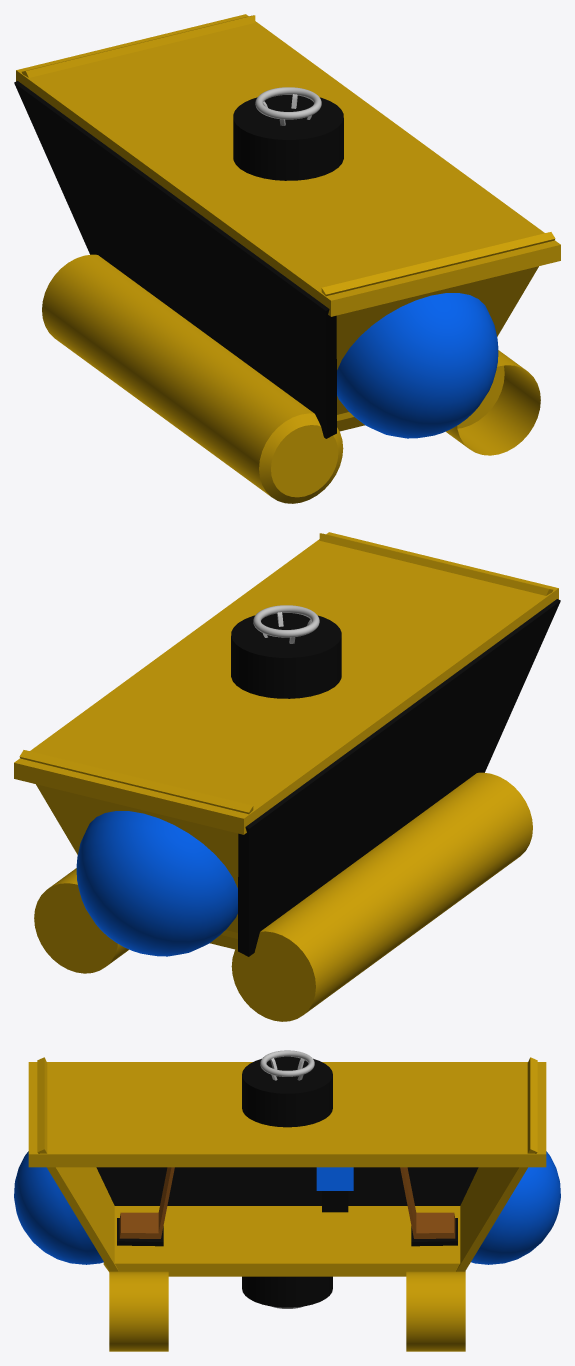
The model's file is submarine_02.fbx.
3 views of the same model, one above another, from view 1: azimuth 30°, elevation 25°; view 2: azimuth 150°, elevation 25°; view 3: azimuth 270°, elevation 25° (orthographic). The views are drawn at different scales.
Parts seen in each view (by area): view 1: Cube.001, Cube.003, Cube, Sphere, Cube.002, Cylinder, Cube.004, Cube.006, Torus.001; view 2: Cube.001, Cube.003, Cube, Sphere, Cube.002, Cylinder, Cube.004, Torus.001; view 3: Cube.001, Cube.005, Cube.003, Sphere, Cube.004, Cube.002, Cylinder, Cube.007, Cylinder.001, Cube.009, Cube.008, Torus.001 (+1 smaller).
Part boxes in pixels (x1=…): Cube.001: x1=16, y1=14, x2=560, y2=316; Cube.003: x1=14, y1=81, x2=336, y2=438; Cube: x1=42, y1=254, x2=343, y2=503; Sphere: x1=337, y1=293, x2=498, y2=438; Cube.002: x1=21, y1=15, x2=555, y2=431; Cylinder: x1=233, y1=95, x2=343, y2=180; Cube.004: x1=446, y1=350, x2=540, y2=455; Cube.006: x1=271, y1=425, x2=338, y2=497; Torus.001: x1=255, y1=87, x2=321, y2=119; Cube.001: x1=14, y1=532, x2=558, y2=834; Cube.003: x1=238, y1=599, x2=560, y2=956; Cube: x1=231, y1=772, x2=532, y2=1021; Sphere: x1=76, y1=811, x2=237, y2=956; Cube.002: x1=19, y1=533, x2=553, y2=949; Cylinder: x1=231, y1=613, x2=341, y2=698; Cube.004: x1=34, y1=868, x2=128, y2=973; Torus.001: x1=253, y1=605, x2=319, y2=637; Cube.001: x1=28, y1=1062, x2=546, y2=1167; Cube.005: x1=114, y1=1206, x2=460, y2=1276; Cube.003: x1=96, y1=1167, x2=478, y2=1205; Sphere: x1=14, y1=1151, x2=560, y2=1264; Cube.004: x1=109, y1=1271, x2=465, y2=1351; Cube.002: x1=37, y1=1057, x2=537, y2=1271; Cylinder: x1=242, y1=1056, x2=332, y2=1127; Cube.007: x1=119, y1=1167, x2=455, y2=1238; Cylinder.001: x1=242, y1=1276, x2=332, y2=1307; Cube.009: x1=316, y1=1167, x2=353, y2=1190; Cube.008: x1=117, y1=1218, x2=457, y2=1246; Torus.001: x1=260, y1=1050, x2=314, y2=1076.
Bounding box in the file's own units: 322 × 327 × 658.
